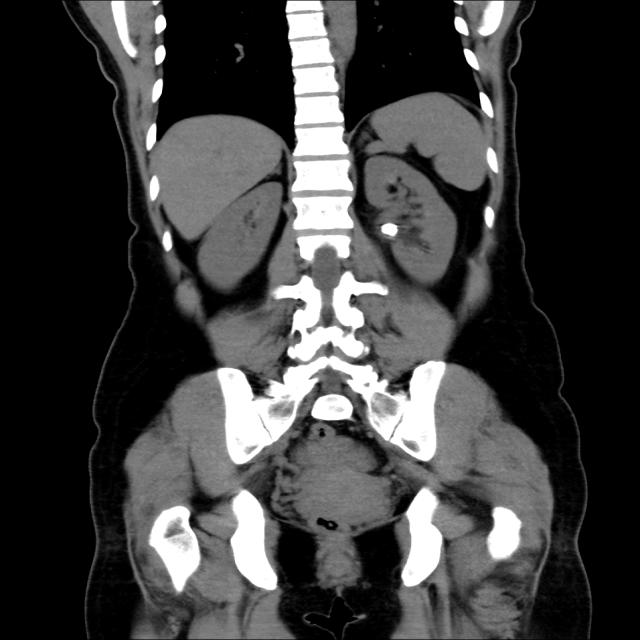kidneystone: (381, 222, 399, 236)
